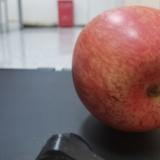apple: (72, 6, 160, 133)
